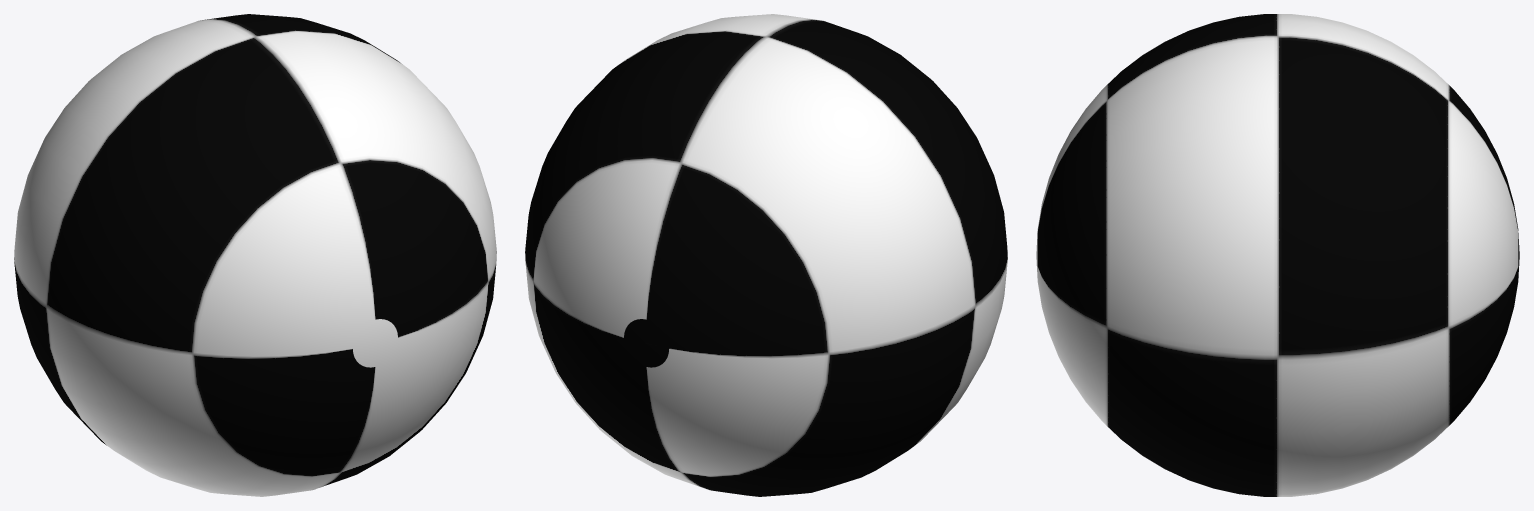
3 renders of one model, left to right at view 1: azimuth 30°, elevation 25°; view 2: azimuth 150°, elevation 25°; view 3: azimuth 270°, elevation 25°, orthographic.
Visible parts, largest first — view 1: Sphere_Sphere.001; view 2: Sphere_Sphere.001; view 3: Sphere_Sphere.001.
Boxes of the visible parts, left/top/right/bottom form: Sphere_Sphere.001: left=14, top=14, right=496, bottom=496; Sphere_Sphere.001: left=525, top=14, right=1007, bottom=496; Sphere_Sphere.001: left=1036, top=14, right=1519, bottom=496.
Bounding box in the file's own units: 0.06 × 0.06 × 0.06.
Materials: 1 (1 with a texture image).
